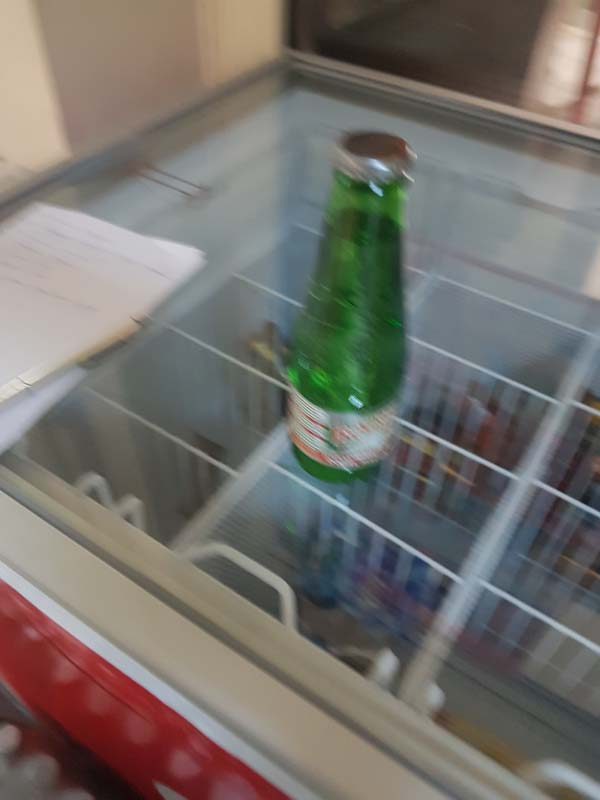beypazarimadensuyu: (268, 127, 434, 489)
